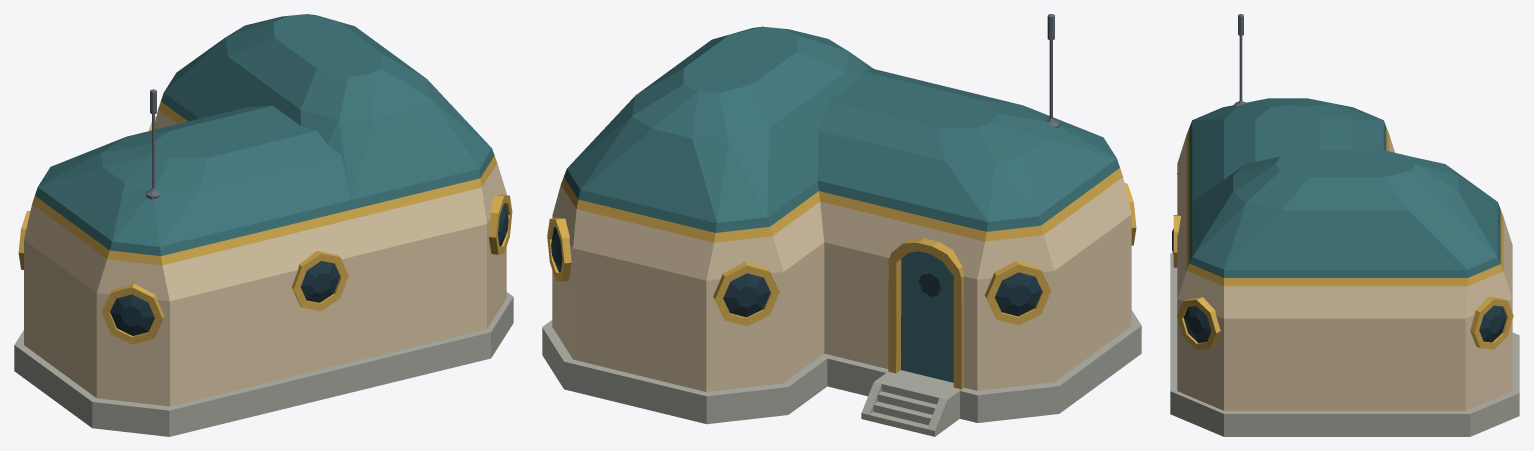
The picture shows the model from 3 angles, left to right: view 1: azimuth 30°, elevation 25°; view 2: azimuth 150°, elevation 25°; view 3: azimuth 270°, elevation 25°; orthographic projection. The views are drawn at different scales.
Parts seen in each view (by area): view 1: house_02; view 2: house_02; view 3: house_02.
Part boxes in pixels (left/top/right/bottom): house_02: left=14, top=14, right=513, bottom=436; house_02: left=542, top=14, right=1141, bottom=436; house_02: left=1170, top=14, right=1519, bottom=436.
Bounding box in the file's own units: 7.74 × 5.44 × 6.31.
1 material, 1 textured.
